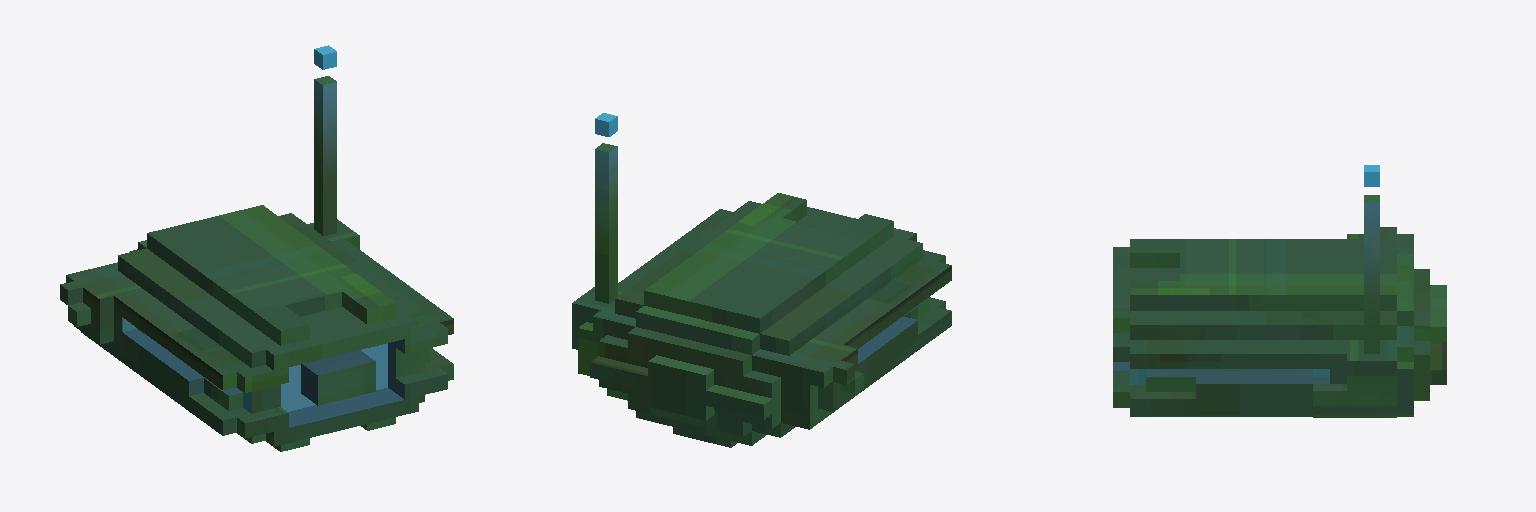
The picture shows the model from 3 angles: view 1: azimuth 30°, elevation 25°; view 2: azimuth 150°, elevation 25°; view 3: azimuth 270°, elevation 25°; orthographic projection.
Parts seen in each view (by area): view 1: MEch_-_Base36-2; view 2: MEch_-_Base36-2; view 3: MEch_-_Base36-2.
Part boxes in pixels (left/top/right/bottom): MEch_-_Base36-2: left=60, top=45, right=453, bottom=451; MEch_-_Base36-2: left=572, top=113, right=951, bottom=447; MEch_-_Base36-2: left=1113, top=165, right=1446, bottom=417.
Size of the model in its own units: 1.9 by 1.9 by 2.
1 materials, 1 textured.